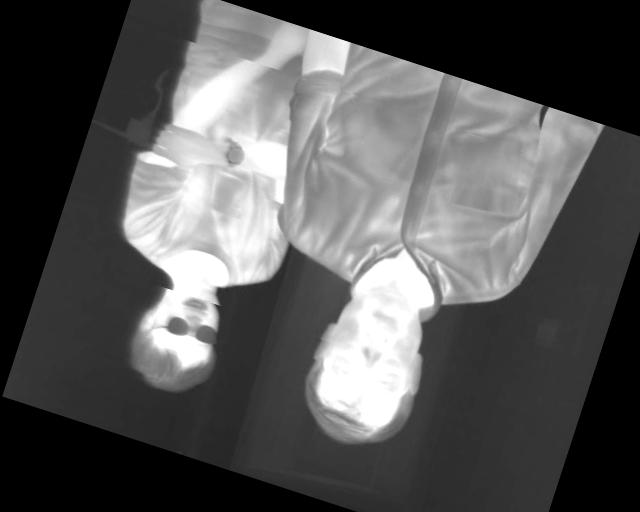face: (289, 267, 447, 462), (120, 265, 237, 403)
